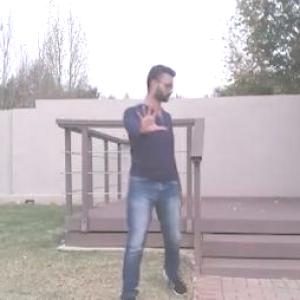follow_hand: (132, 99, 170, 137)
